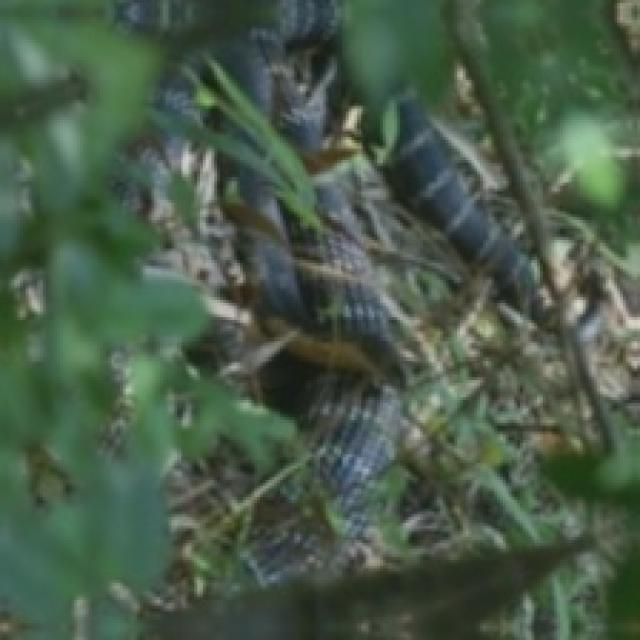king cobra: (120, 0, 606, 637)
